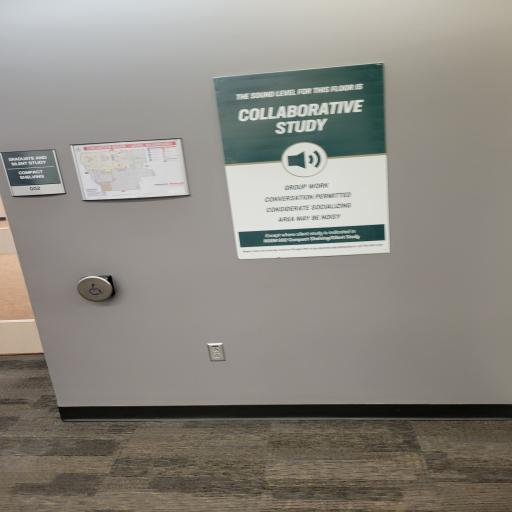floor layout map: (73, 130, 192, 207)
handicap push button: (79, 263, 115, 310)
outlet: (200, 335, 232, 366)
poster: (199, 69, 413, 260)
